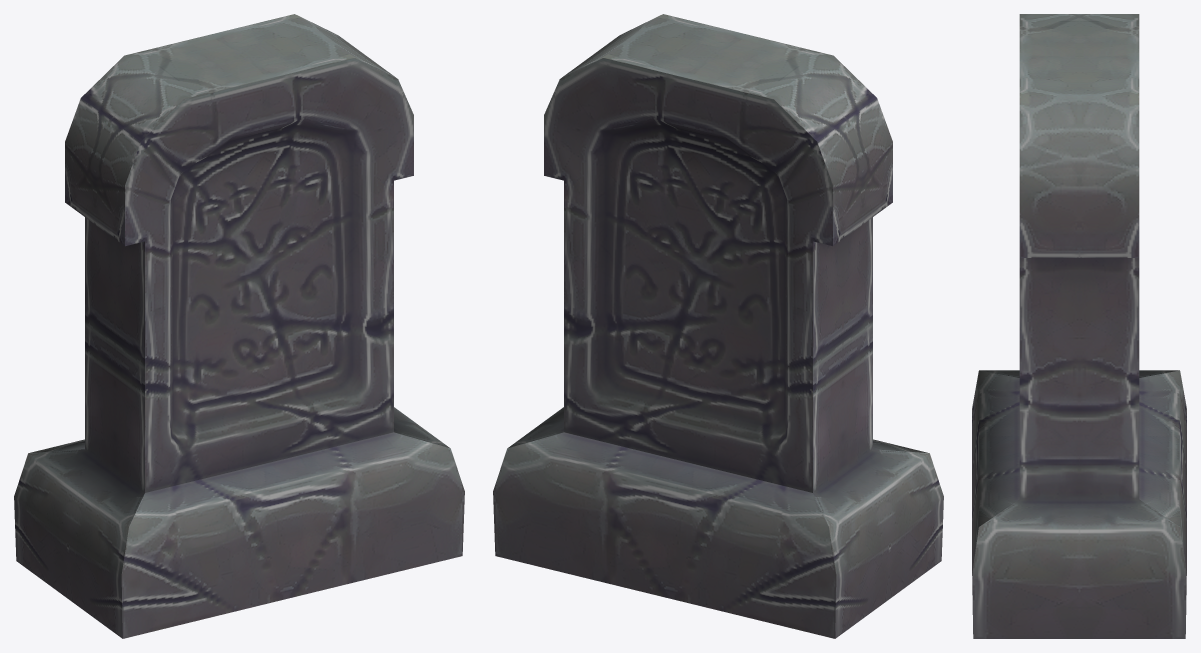
Rendered from cem_prop_grave_03.fbx.
The picture shows the model from 3 angles, left to right: view 1: azimuth 30°, elevation 25°; view 2: azimuth 150°, elevation 25°; view 3: azimuth 270°, elevation 25°; orthographic projection.
Visible parts, largest first — view 1: cem_prop_grave_03; view 2: cem_prop_grave_03; view 3: cem_prop_grave_03.
Part boxes in pixels (box(x1,y1,x2,y2)): cem_prop_grave_03: box(14, 14, 464, 638); cem_prop_grave_03: box(493, 14, 943, 638); cem_prop_grave_03: box(972, 14, 1186, 638).
Size of the model in its own units: 56.48 by 78.88 by 30.65.
